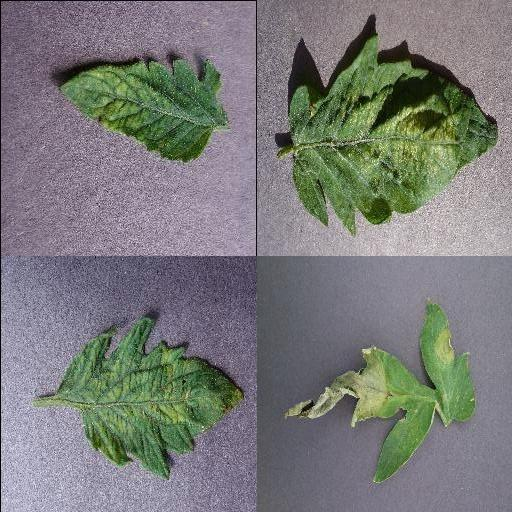Late Blight: (281, 296, 477, 482)
Mosaic Virus: (57, 317, 244, 481), (55, 56, 225, 164)
Spider Mites: (287, 35, 497, 237)
